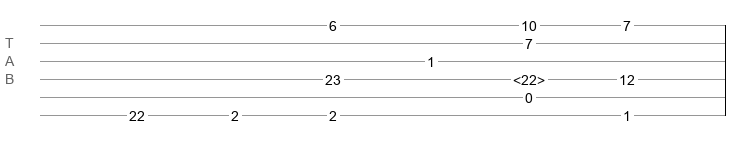0: (525, 90, 533, 100)
1: (427, 54, 435, 64), (623, 108, 631, 118)
10: (521, 18, 537, 28)
12: (619, 72, 635, 82)
2: (231, 108, 239, 118), (329, 108, 337, 118)
22: (129, 108, 145, 118)
23: (325, 72, 341, 82)
6: (329, 18, 337, 28)
7: (525, 36, 533, 46), (623, 18, 631, 28)
harmonic: (513, 72, 545, 82)
